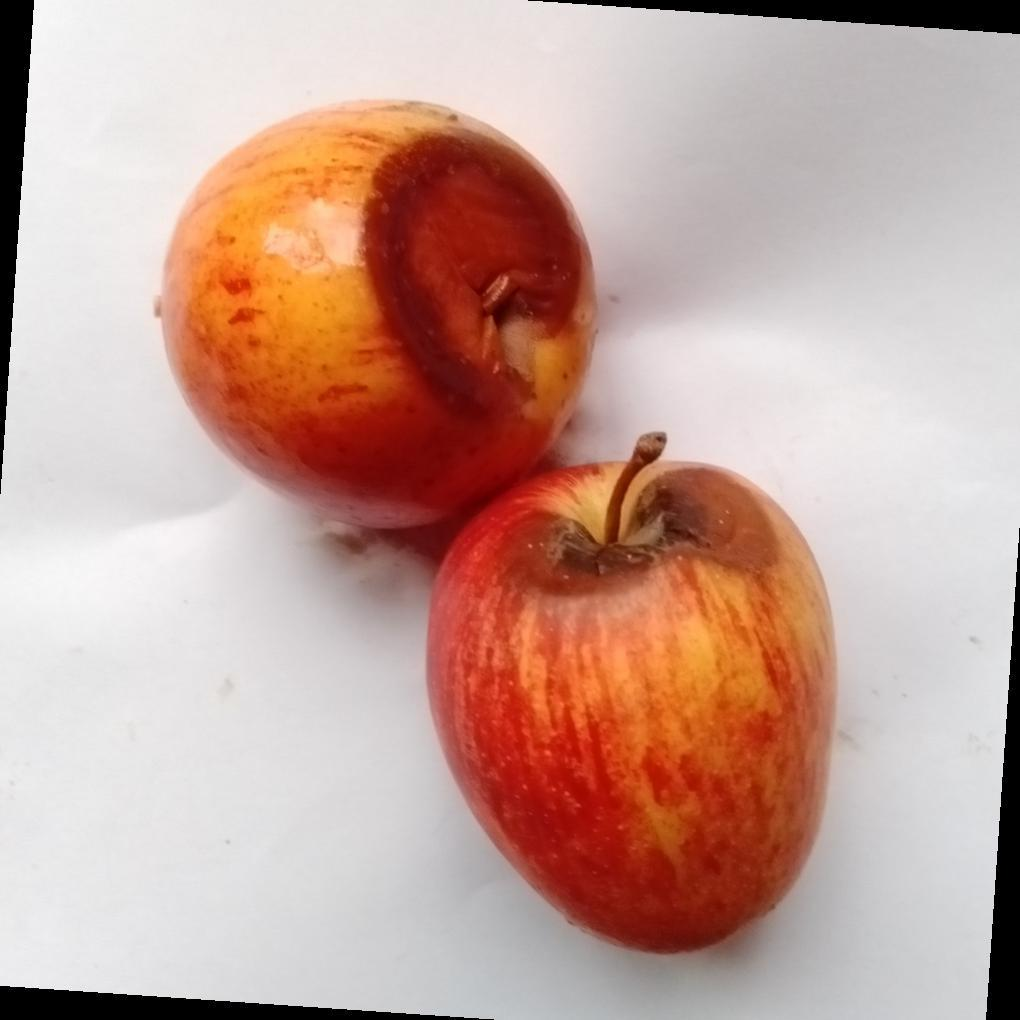FreshOrange: (154, 99, 840, 959)
